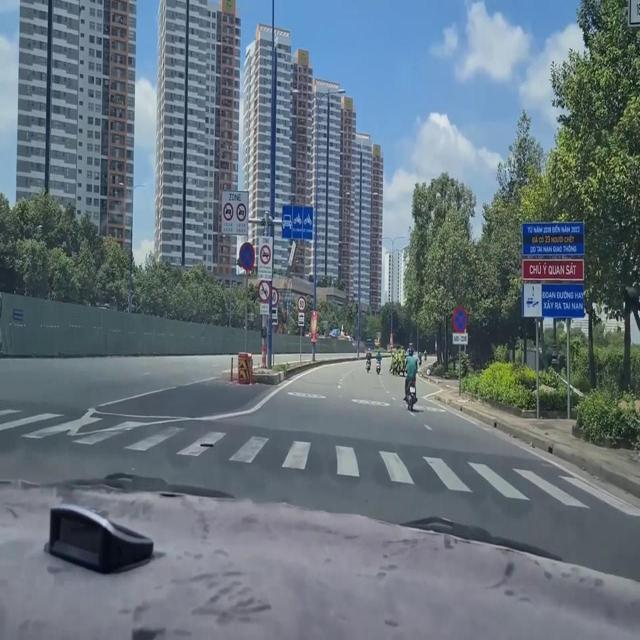Biển phụ: (451, 330, 470, 347), (256, 296, 269, 318), (297, 309, 309, 330), (270, 304, 278, 328)
Cấm các phương tiện hoạt động trong khung giờ cố định: (220, 185, 248, 231), (255, 234, 272, 277)
Cấm dừng - Cấm đỗ: (448, 300, 470, 331), (237, 238, 255, 272)
Cấm xe máy: (256, 275, 271, 301)
Giới hạn tốc độ: 80Km/h: (297, 291, 307, 312)
Khác: (516, 216, 586, 322)
Làn đường cho từng xe: (281, 204, 315, 243)
